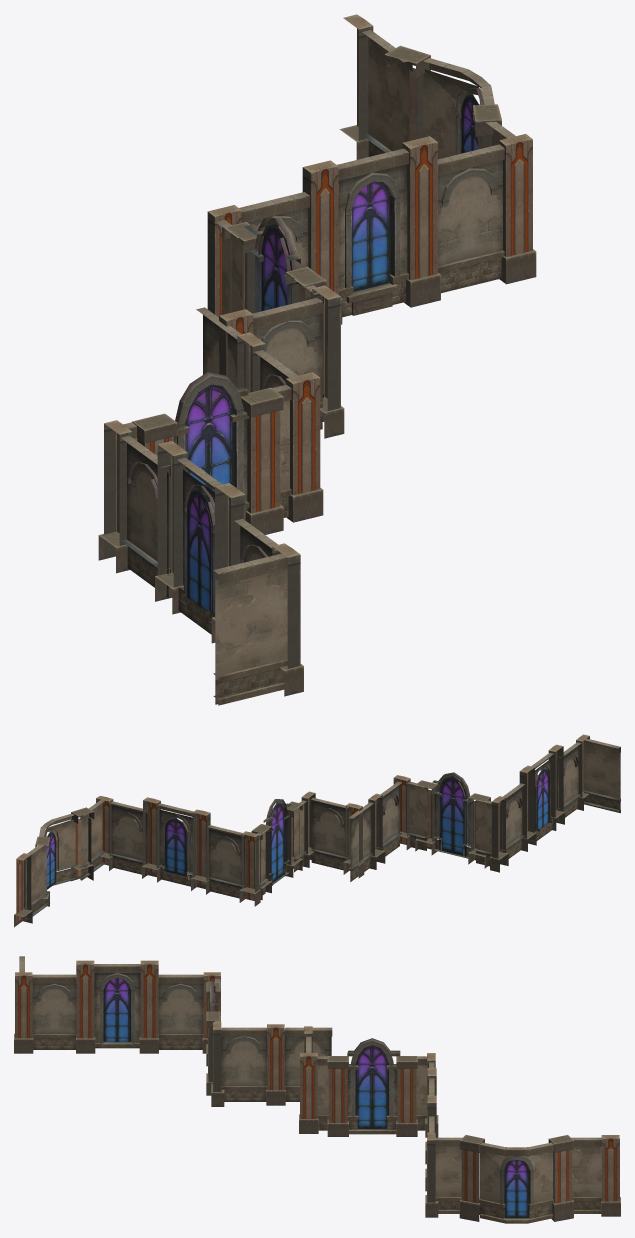
Rendered from section03_guanka09_dimian07.FBX.
3 renders of one model, top to bottom at view 1: azimuth 30°, elevation 25°; view 2: azimuth 150°, elevation 25°; view 3: azimuth 270°, elevation 25°, orthographic. The views are drawn at different scales.
Parts seen in each view (by area): view 1: section03_guanka09_dimian07; view 2: section03_guanka09_dimian07; view 3: section03_guanka09_dimian07.
Boxes of the visible parts, x1,y1,x2,y2 form: section03_guanka09_dimian07: [98, 14, 536, 705]; section03_guanka09_dimian07: [14, 734, 620, 927]; section03_guanka09_dimian07: [14, 956, 620, 1223].
Size of the model in its own units: 29.95 by 39.62 by 6.96.
